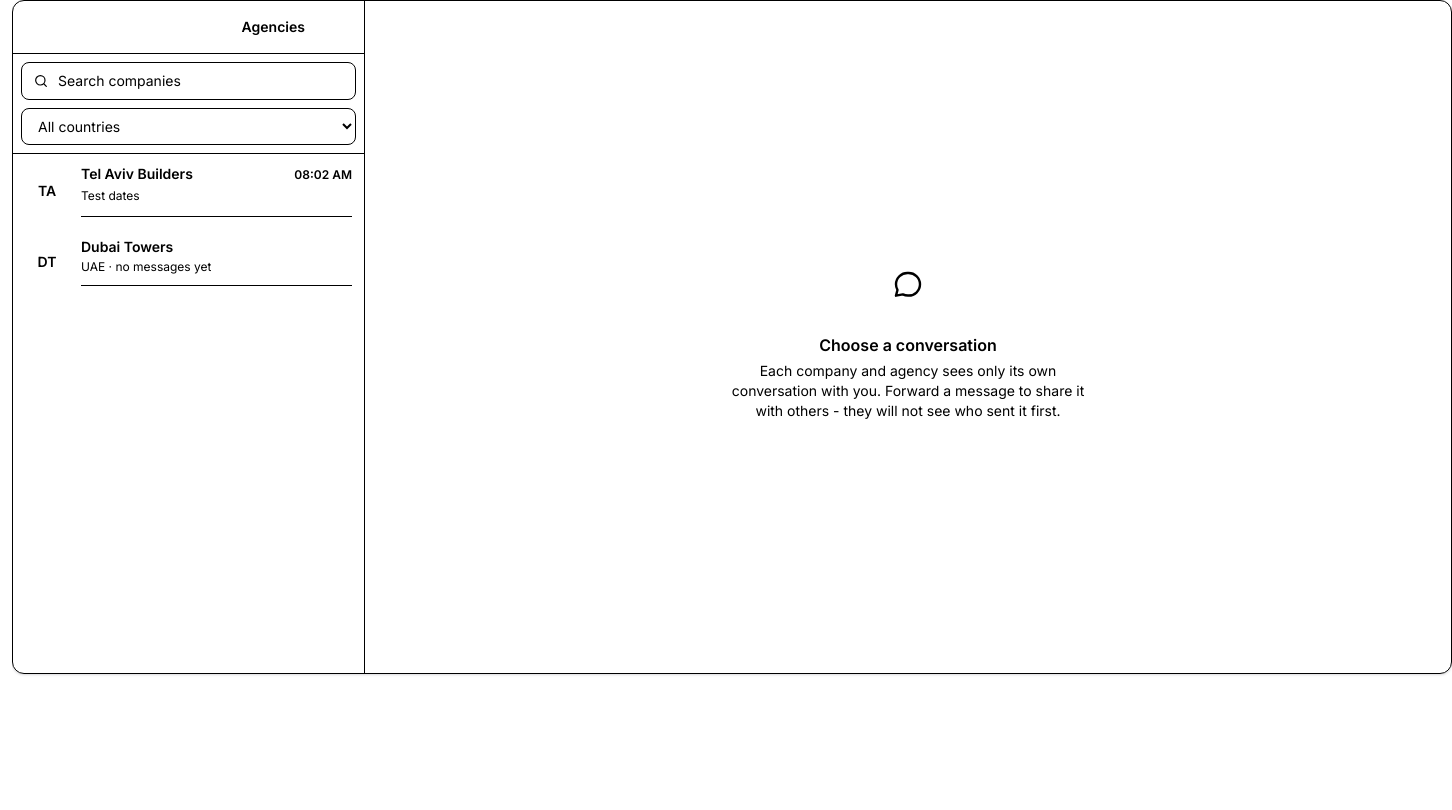
Test: Messages - admin side › keeps companies and agencies on separate sides and filters companies by country
Check: the text "Tel Aviv Builders" is shown, box [81,164,193,184]
Check: the text "Dubai Towers" is shown, box [81,237,173,257]
Step 1. Select "UAE" in the dropdown named "Country" → point(188, 126), box [21,108,356,145]
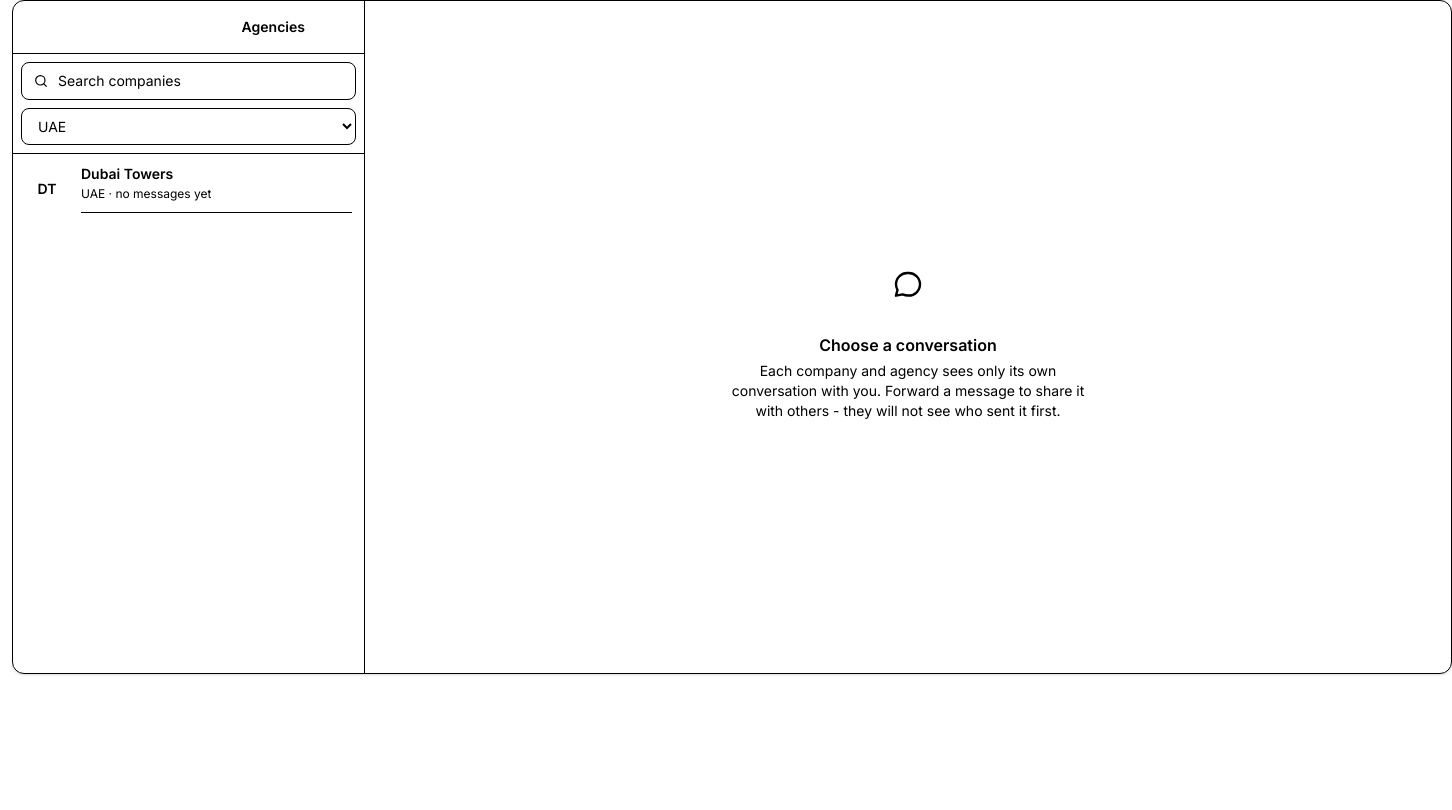
Check: the text "Dubai Towers" is shown, box [81,164,173,184]
Check: the button "Tel Aviv Builders" is gone
Step 2. Click the tab "Agencies" → point(273, 27), box [190,9,356,45]
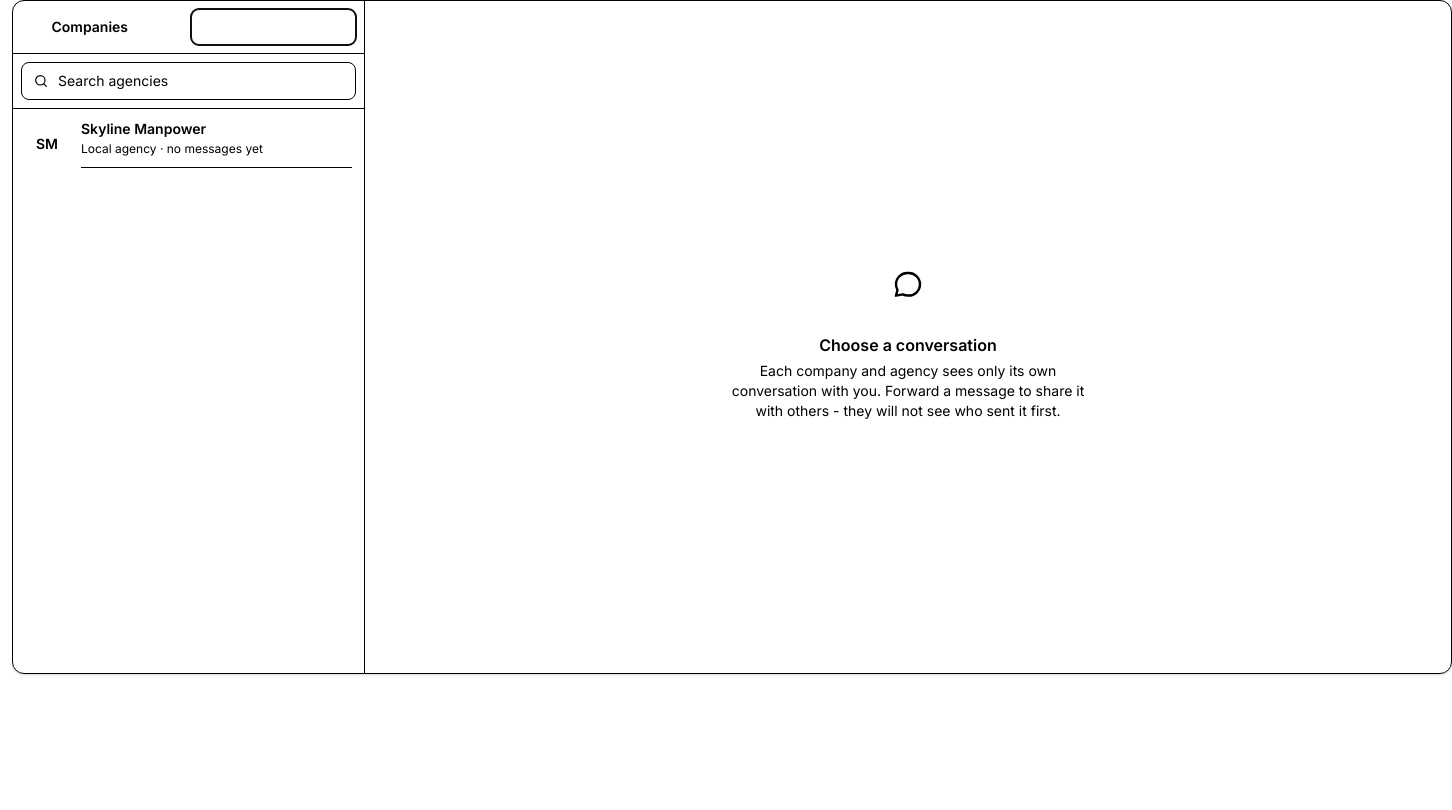
Check: the text "Skyline Manpower" is shown, box [81,119,206,139]
Check: the dropdown labelled "Country" is gone
